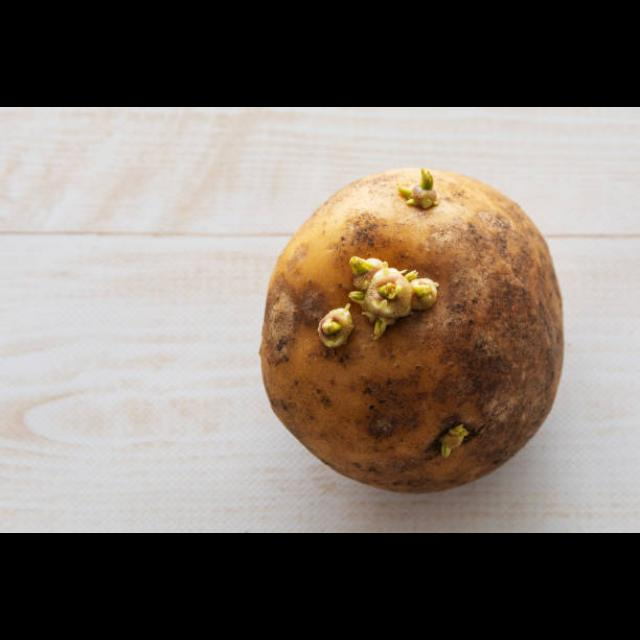Sprouted potato: (239, 142, 566, 504)
